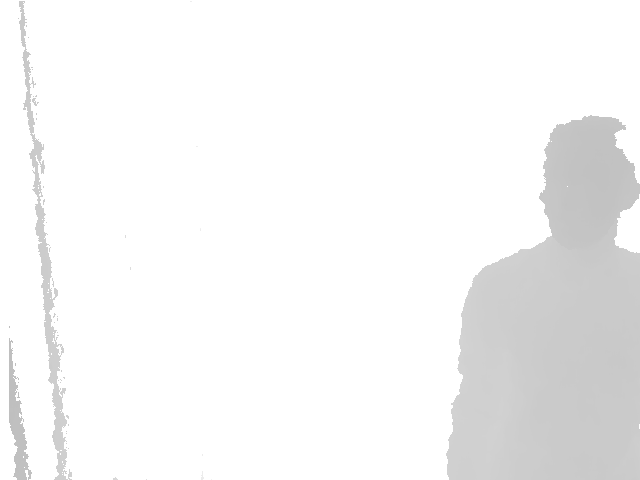head: (538, 115, 640, 249)
person: (445, 116, 640, 479)
